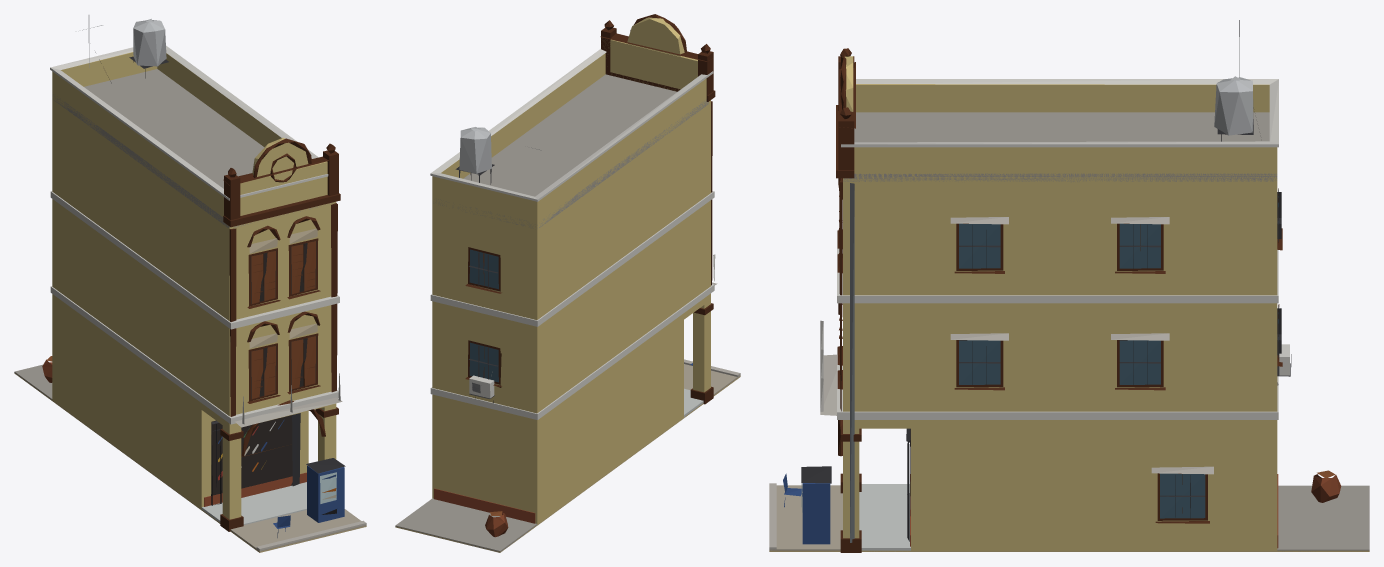
The model's file is bay2_right.glb.
The picture shows the model from 3 angles, left to right: view 1: azimuth 30°, elevation 25°; view 2: azimuth 150°, elevation 25°; view 3: azimuth 270°, elevation 25°; orthographic projection. The views are drawn at different scales.
Parts seen in each view (by area): view 1: body, windows; view 2: body, windows; view 3: body, windows.
Part boxes in pixels (x1=…): body: x1=14, y1=15, x2=366, y2=552; windows: x1=211, y1=241, x2=316, y2=495; body: x1=395, y1=14, x2=740, y2=552; windows: x1=469, y1=249, x2=498, y2=382; body: x1=769, y1=20, x2=1369, y2=552; windows: x1=841, y1=189, x2=1278, y2=518.
Bounding box in the file's own units: 4.48 × 14.05 × 15.9.
